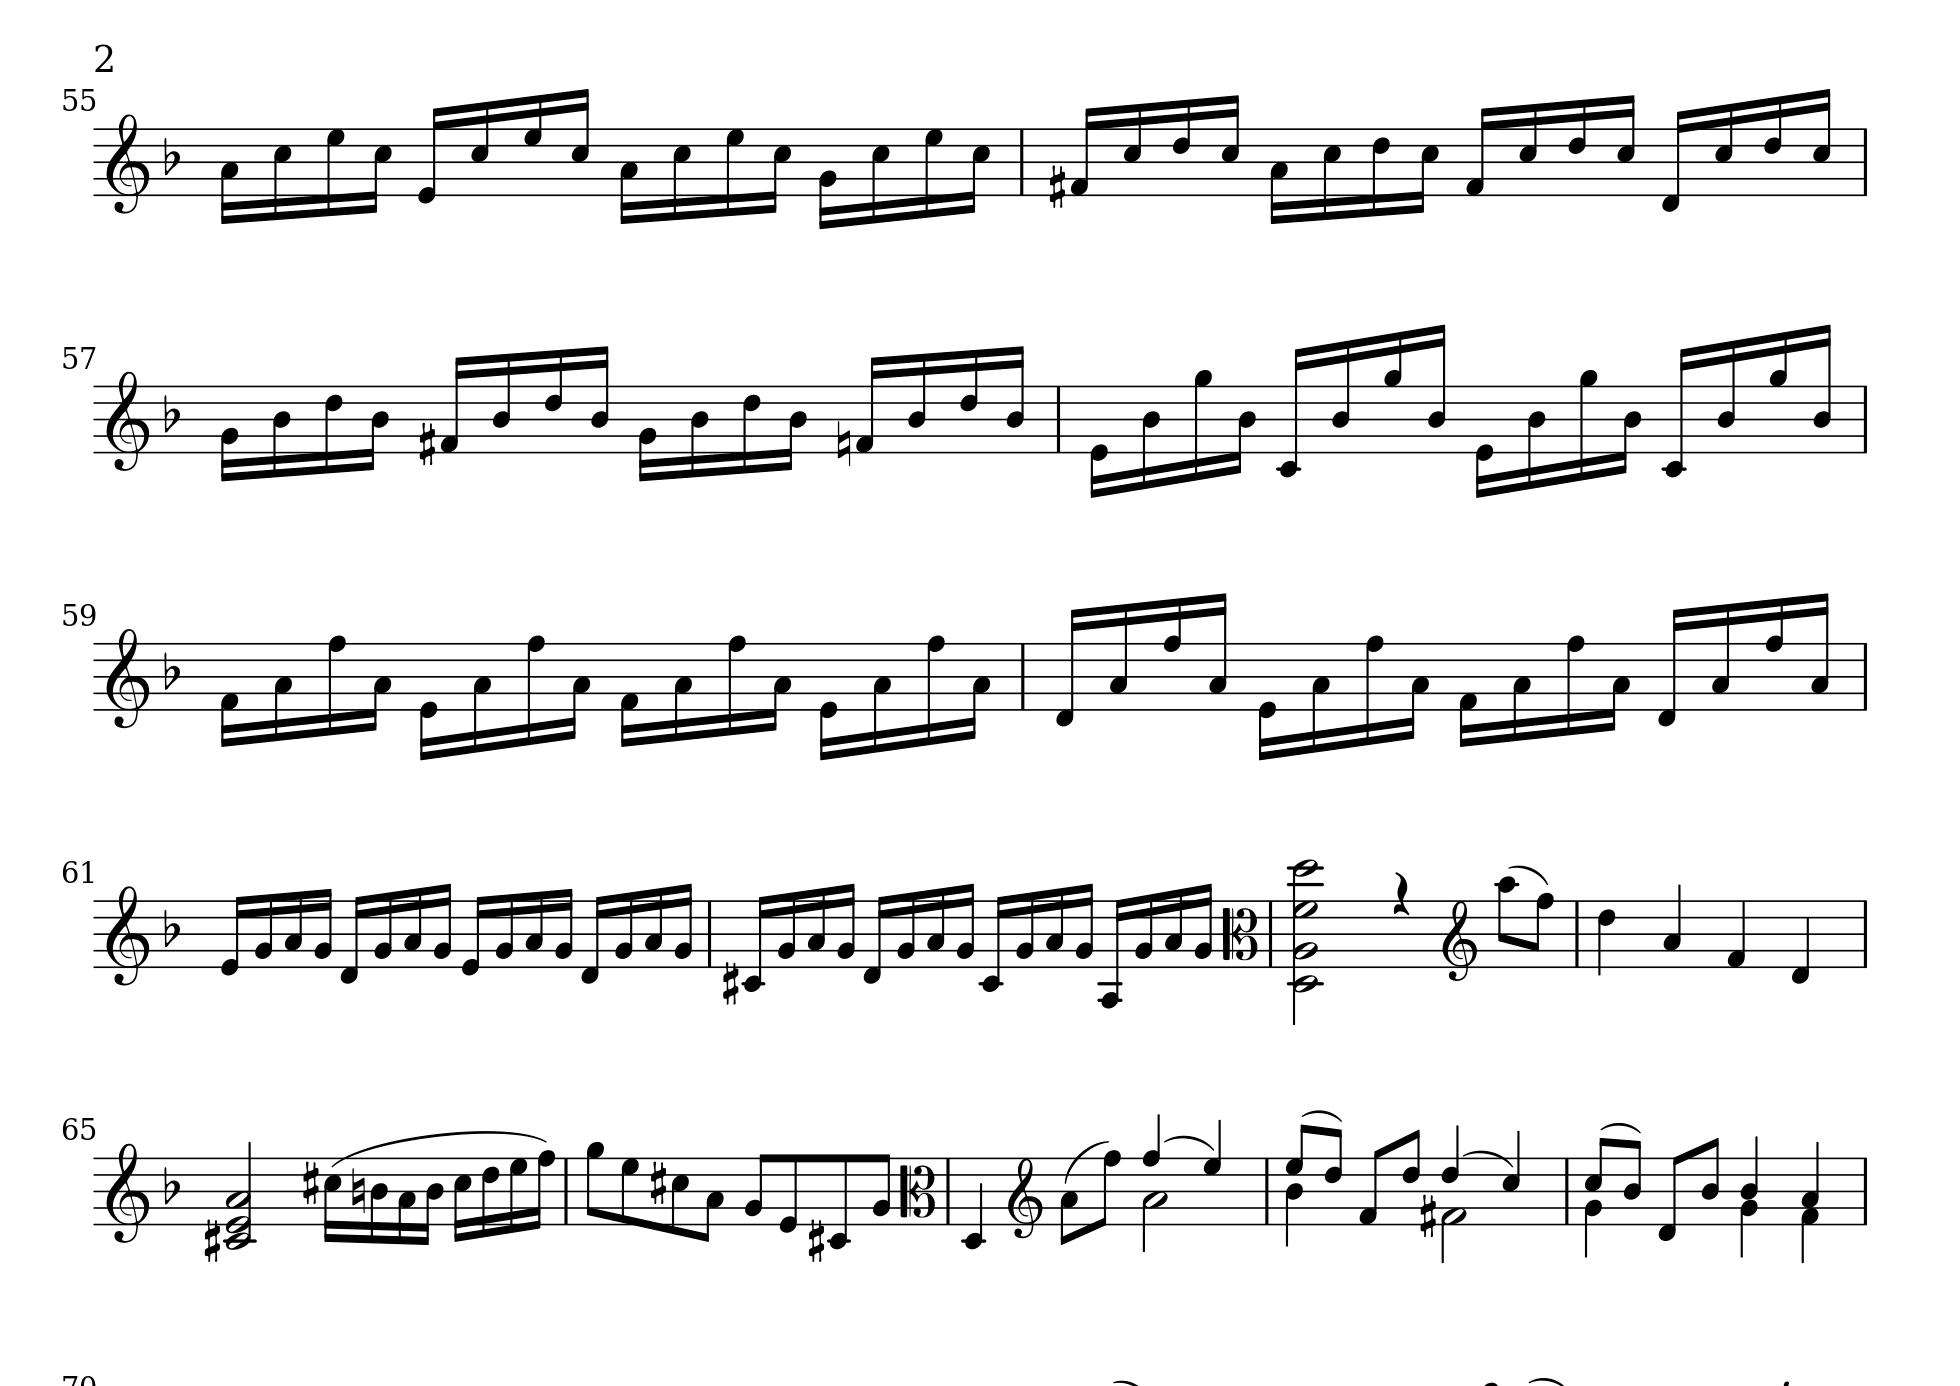1: (79, 856, 94, 886)
16_-1: (1053, 606, 1084, 727), (1656, 604, 1686, 727), (1659, 106, 1690, 213), (577, 891, 607, 985), (337, 892, 367, 984), (861, 889, 889, 985)
16_-2: (1275, 343, 1309, 478), (1660, 343, 1695, 478), (978, 891, 1009, 991), (742, 892, 771, 991)
16_-4: (1096, 892, 1129, 1009)
16_0: (414, 105, 445, 205), (817, 640, 840, 760), (1257, 640, 1279, 760), (1474, 382, 1497, 498), (418, 640, 439, 760), (217, 892, 247, 976), (457, 892, 487, 976)
16_1: (438, 354, 469, 454), (853, 354, 885, 454), (1462, 105, 1492, 196), (1069, 105, 1098, 198), (219, 640, 240, 748), (619, 640, 640, 748), (1458, 640, 1479, 748)
16_2: (1089, 382, 1110, 496), (816, 124, 838, 229), (217, 382, 240, 483), (636, 382, 658, 483), (1191, 880, 1215, 969), (430, 880, 453, 970), (954, 880, 976, 970), (1074, 880, 1096, 970), (672, 880, 694, 969), (834, 880, 856, 969), (312, 886, 334, 970), (372, 889, 394, 969), (493, 891, 516, 970), (775, 889, 798, 969), (1014, 889, 1036, 969), (252, 891, 274, 969), (1132, 891, 1155, 969), (553, 886, 574, 969), (613, 889, 634, 969), (895, 889, 916, 969)
16_3: (963, 640, 993, 742), (562, 640, 592, 741), (1206, 589, 1230, 712), (1402, 640, 1431, 742), (469, 640, 493, 757), (763, 640, 793, 733), (1809, 591, 1831, 712), (1107, 601, 1131, 712), (1710, 601, 1734, 712), (1309, 640, 1332, 757), (1603, 640, 1632, 732), (870, 640, 892, 754), (670, 640, 694, 745), (364, 640, 391, 733), (271, 640, 294, 745), (1510, 640, 1533, 744), (217, 126, 240, 226), (618, 126, 639, 226), (1269, 126, 1290, 226), (402, 885, 424, 969), (1044, 885, 1066, 969), (805, 886, 828, 967), (396, 1153, 415, 1246), (282, 889, 304, 967), (523, 889, 546, 967), (1164, 886, 1185, 969), (643, 886, 664, 967), (925, 886, 946, 967)
16_4: (1810, 322, 1834, 454), (1426, 321, 1449, 454), (1329, 337, 1353, 454), (1716, 337, 1740, 454), (778, 382, 808, 472), (1615, 382, 1644, 477), (1524, 382, 1548, 493), (1138, 382, 1162, 492), (361, 382, 390, 472), (1230, 382, 1257, 477), (490, 351, 514, 456), (589, 343, 612, 454), (1005, 343, 1027, 454), (418, 1156, 445, 1246), (268, 382, 292, 480), (906, 351, 928, 454), (687, 384, 709, 480), (369, 1155, 388, 1246)
16_5: (762, 126, 793, 216), (363, 126, 393, 216), (568, 85, 592, 198), (961, 126, 991, 216), (1410, 126, 1440, 216), (1615, 91, 1638, 198), (1812, 85, 1833, 196), (1713, 100, 1737, 196), (868, 124, 891, 226), (1320, 124, 1342, 223), (1221, 93, 1242, 198), (469, 99, 492, 196), (1518, 100, 1540, 196), (271, 124, 292, 222), (670, 126, 691, 223), (1123, 100, 1144, 196), (322, 1158, 343, 1245), (451, 1156, 472, 1243)
16_6: (543, 346, 567, 454), (958, 346, 982, 454), (1762, 93, 1786, 196), (1171, 96, 1194, 196), (1567, 96, 1590, 196), (739, 382, 762, 475), (1371, 124, 1392, 219), (322, 382, 343, 475), (478, 1153, 501, 1237)
16_7: (522, 91, 544, 198), (322, 124, 345, 220), (723, 124, 745, 220), (922, 124, 943, 220), (508, 1155, 528, 1234)
16_8: (1161, 595, 1185, 712), (1764, 595, 1788, 712), (922, 633, 946, 748), (1362, 633, 1386, 748), (523, 633, 546, 748), (1563, 634, 1587, 739), (324, 633, 346, 739), (724, 634, 747, 739), (529, 1149, 556, 1230)
16_9: (1381, 328, 1405, 454), (1767, 328, 1791, 454), (1191, 367, 1215, 484), (1576, 367, 1599, 484)
2: (91, 40, 115, 73)
2_4th: (1284, 856, 1326, 1021)
2_th: (223, 1138, 259, 1252)
4_-1: (1788, 895, 1812, 985)
4_-2: (958, 1155, 987, 1249)
4_1: (1725, 898, 1749, 970)
4_3: (1662, 882, 1683, 969)
4_5: (1500, 1126, 1524, 1225)
4_6: (1596, 897, 1617, 976)
4_7: (1201, 1114, 1224, 1224)
5: (76, 87, 97, 118), (61, 598, 78, 628), (61, 85, 79, 112), (60, 343, 78, 370), (79, 1114, 97, 1141)
6: (61, 856, 79, 885), (61, 1114, 79, 1141)
7: (79, 343, 97, 370)
8_-1: (1656, 1150, 1687, 1242)
8_-2: (826, 1152, 852, 1251)
8_0: (775, 1150, 799, 1234)
8_1: (1359, 1141, 1390, 1225)
8_10: (1494, 874, 1518, 967)
8_2: (742, 1150, 771, 1225), (867, 1150, 892, 1227)
8_3: (697, 1155, 724, 1243), (1059, 1155, 1080, 1246)
8_4: (1621, 1138, 1644, 1225), (1701, 1135, 1722, 1227)
8_5: (669, 1155, 690, 1237)
8_6: (1323, 1126, 1345, 1227), (1401, 1126, 1422, 1230)
8_7: (619, 1156, 639, 1228)
8_8: (1093, 1147, 1123, 1228), (1528, 891, 1557, 969)
8_9: (585, 1140, 604, 1227)
9: (79, 600, 97, 628)
Cclef: (897, 1153, 939, 1225), (1221, 898, 1260, 969)
Flat: (160, 906, 181, 948), (160, 1162, 181, 1204), (160, 133, 180, 175), (162, 391, 180, 433), (162, 649, 180, 690)
Gclef: (103, 883, 150, 985), (103, 625, 148, 730), (103, 111, 148, 214), (103, 369, 148, 472), (103, 1140, 148, 1243), (1443, 898, 1477, 982), (1008, 1155, 1042, 1239)
Natural: (349, 1162, 366, 1215), (835, 418, 852, 466)
Rests4: (1390, 868, 1413, 918)
Sharp: (1417, 1188, 1437, 1239), (202, 1215, 222, 1264), (300, 1158, 319, 1207), (648, 1158, 667, 1207), (417, 420, 436, 468), (1047, 163, 1066, 210), (807, 1216, 825, 1264), (721, 960, 739, 1006)
Single_barline: (1012, 129, 1030, 195), (1050, 385, 1068, 451), (1569, 900, 1587, 964), (1857, 385, 1873, 454), (1857, 127, 1873, 195), (1857, 900, 1873, 967), (1857, 1156, 1873, 1224), (1015, 643, 1032, 709), (700, 900, 717, 966), (1260, 1158, 1276, 1222), (1560, 1158, 1576, 1222), (1858, 642, 1873, 711), (940, 1158, 955, 1224), (1263, 901, 1278, 966), (559, 1158, 573, 1224)
Slur: (1062, 1138, 1111, 1183), (1464, 1147, 1515, 1170), (1164, 1132, 1215, 1152), (1510, 864, 1549, 886), (1303, 1107, 1341, 1122), (1602, 1119, 1641, 1132)
